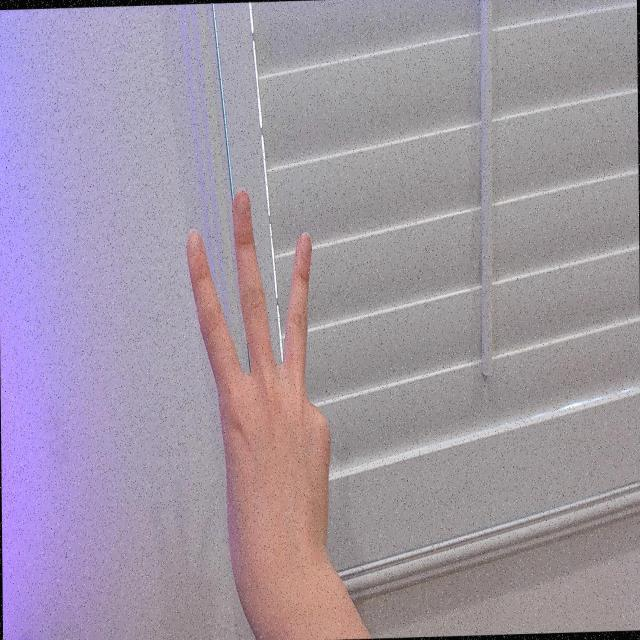W: (185, 179, 334, 594)
